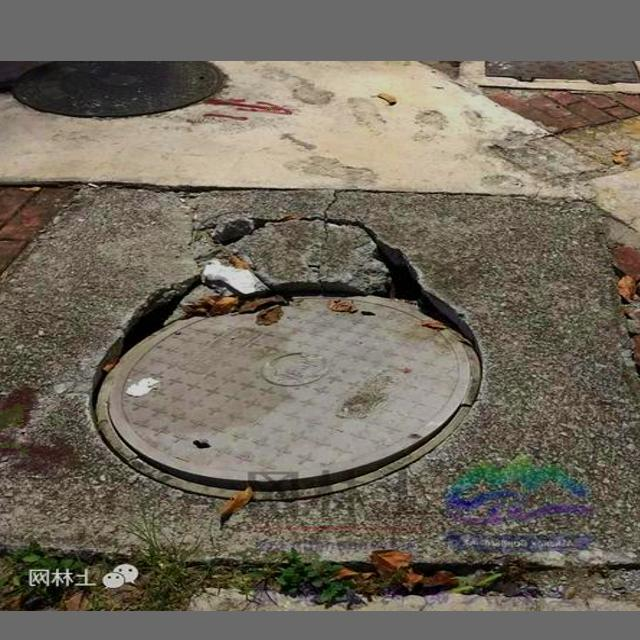circle: (1, 171, 640, 568)
